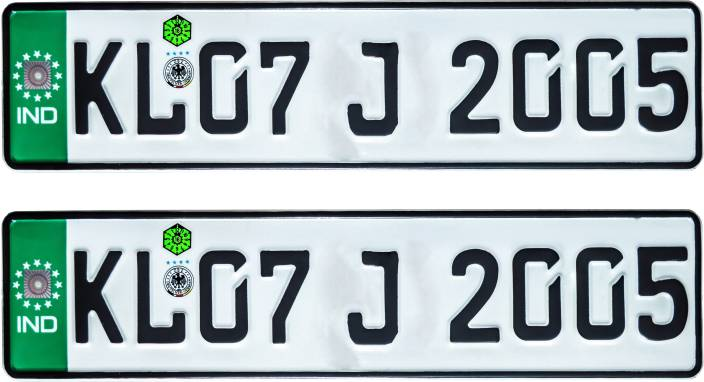number_plate: (2, 2, 700, 172), (4, 211, 701, 381)
